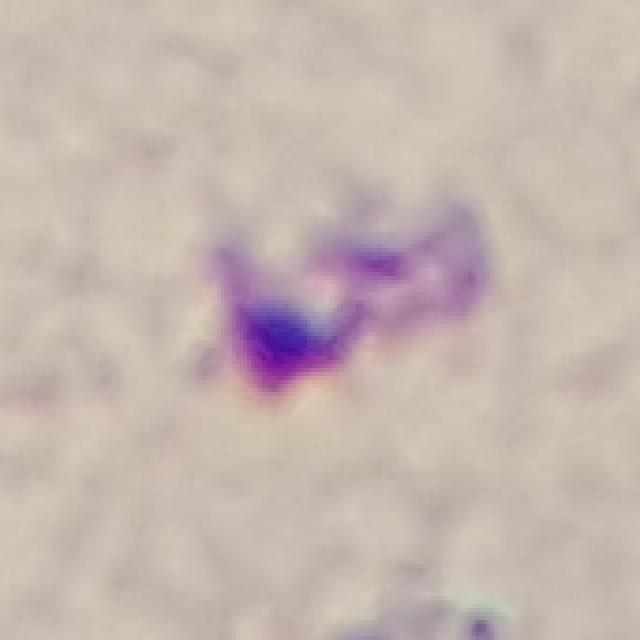non-sperm: (232, 210, 495, 389)
